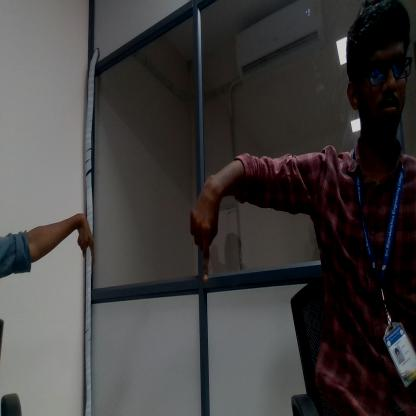Down: (180, 174, 218, 290)
